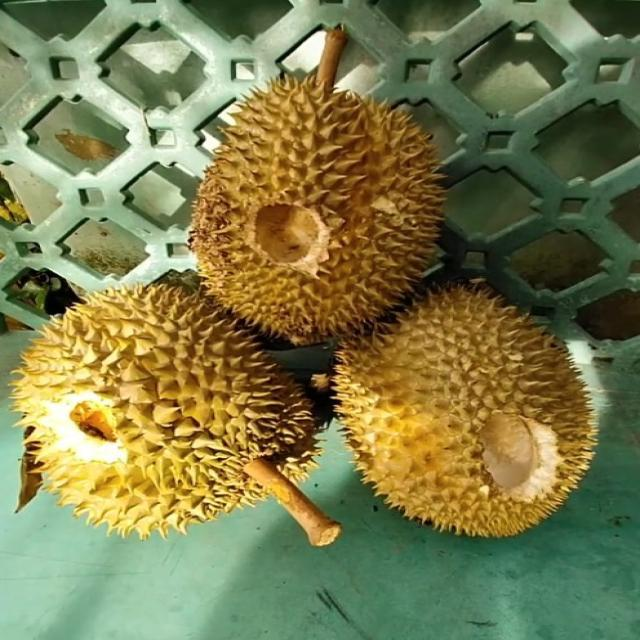defective: (7, 277, 327, 545), (332, 270, 603, 545), (189, 72, 447, 344)
